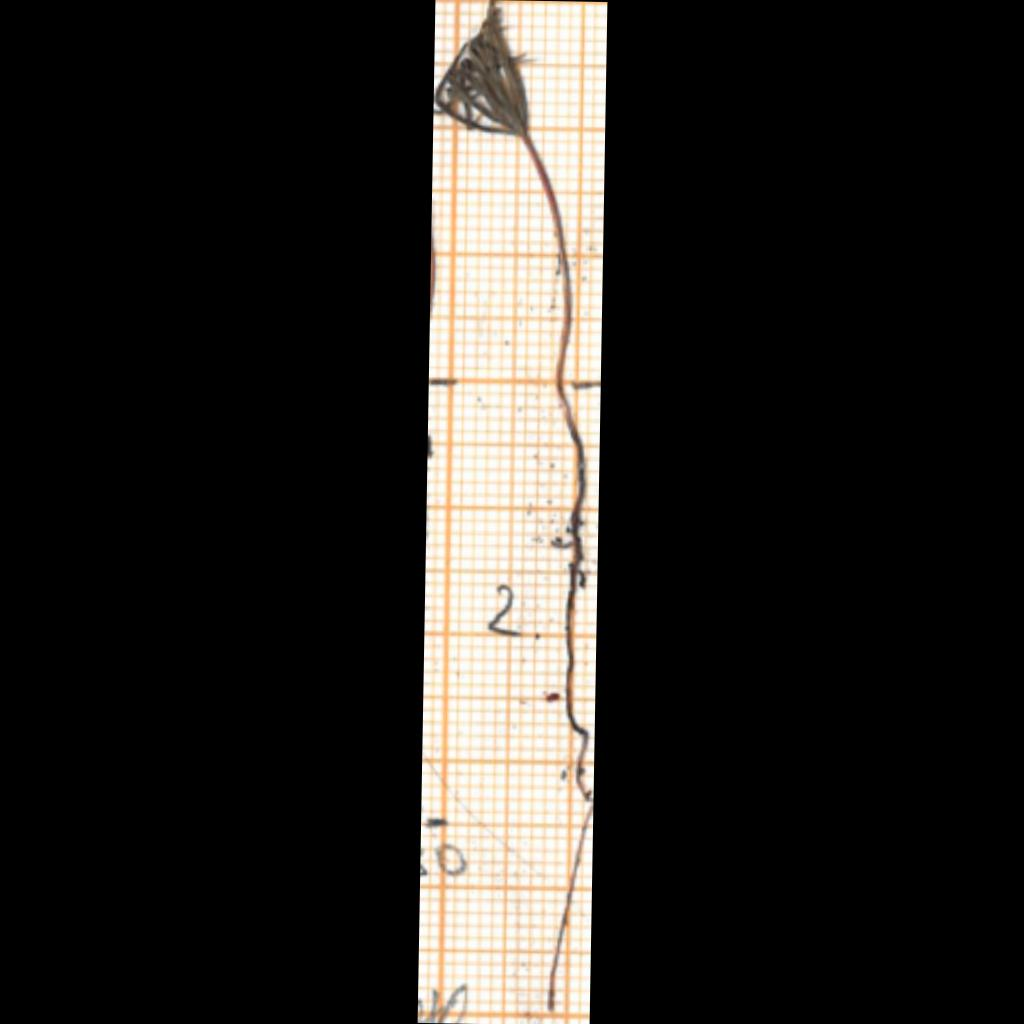flowerPinus: (437, 0, 530, 137)
rootPinus: (548, 403, 593, 1009)
stemPinus: (527, 136, 570, 393)
